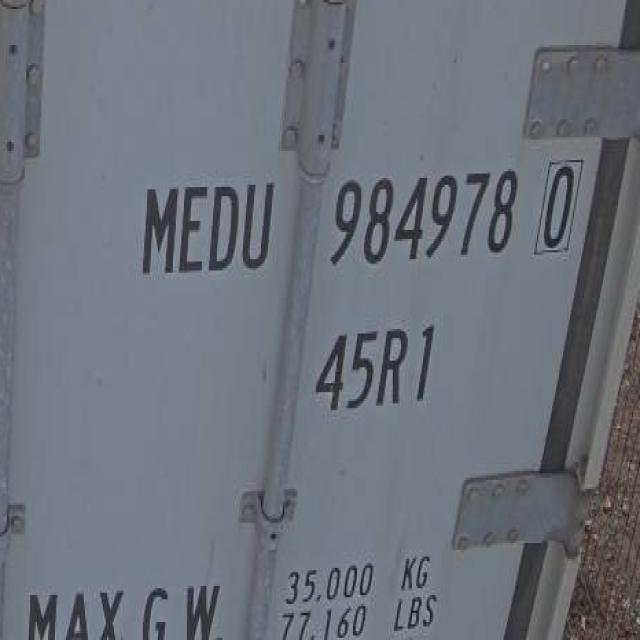dv: (532, 150, 583, 271)
owner: (136, 163, 278, 288)
serial: (323, 158, 522, 278)
size: (307, 320, 443, 419)
